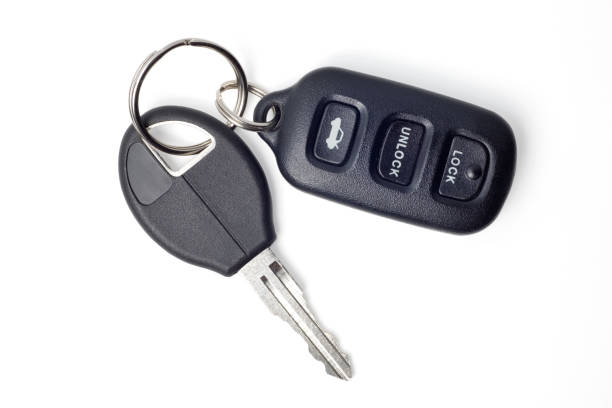key: (109, 104, 374, 383)
